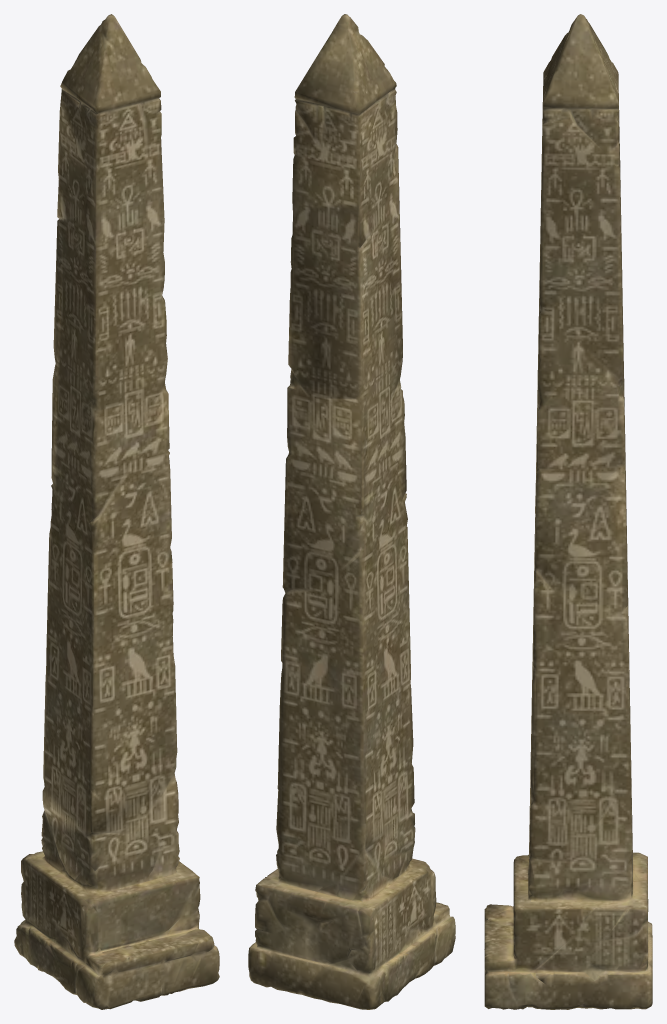
The model's file is obelisk.glb.
3 renders of one model, left to right at view 1: azimuth 30°, elevation 25°; view 2: azimuth 150°, elevation 25°; view 3: azimuth 270°, elevation 25°, orthographic.
Visible parts, largest first — view 1: defaultMaterial; view 2: defaultMaterial; view 3: defaultMaterial.
Boxes of the visible parts, x1,y1,x2,y2 form: defaultMaterial: (14, 14, 219, 1009); defaultMaterial: (248, 14, 455, 1009); defaultMaterial: (484, 14, 652, 1009).
Size of the model in its own units: 0.2744 by 2 by 0.3157.
Materials: 1 (1 with a texture image).
